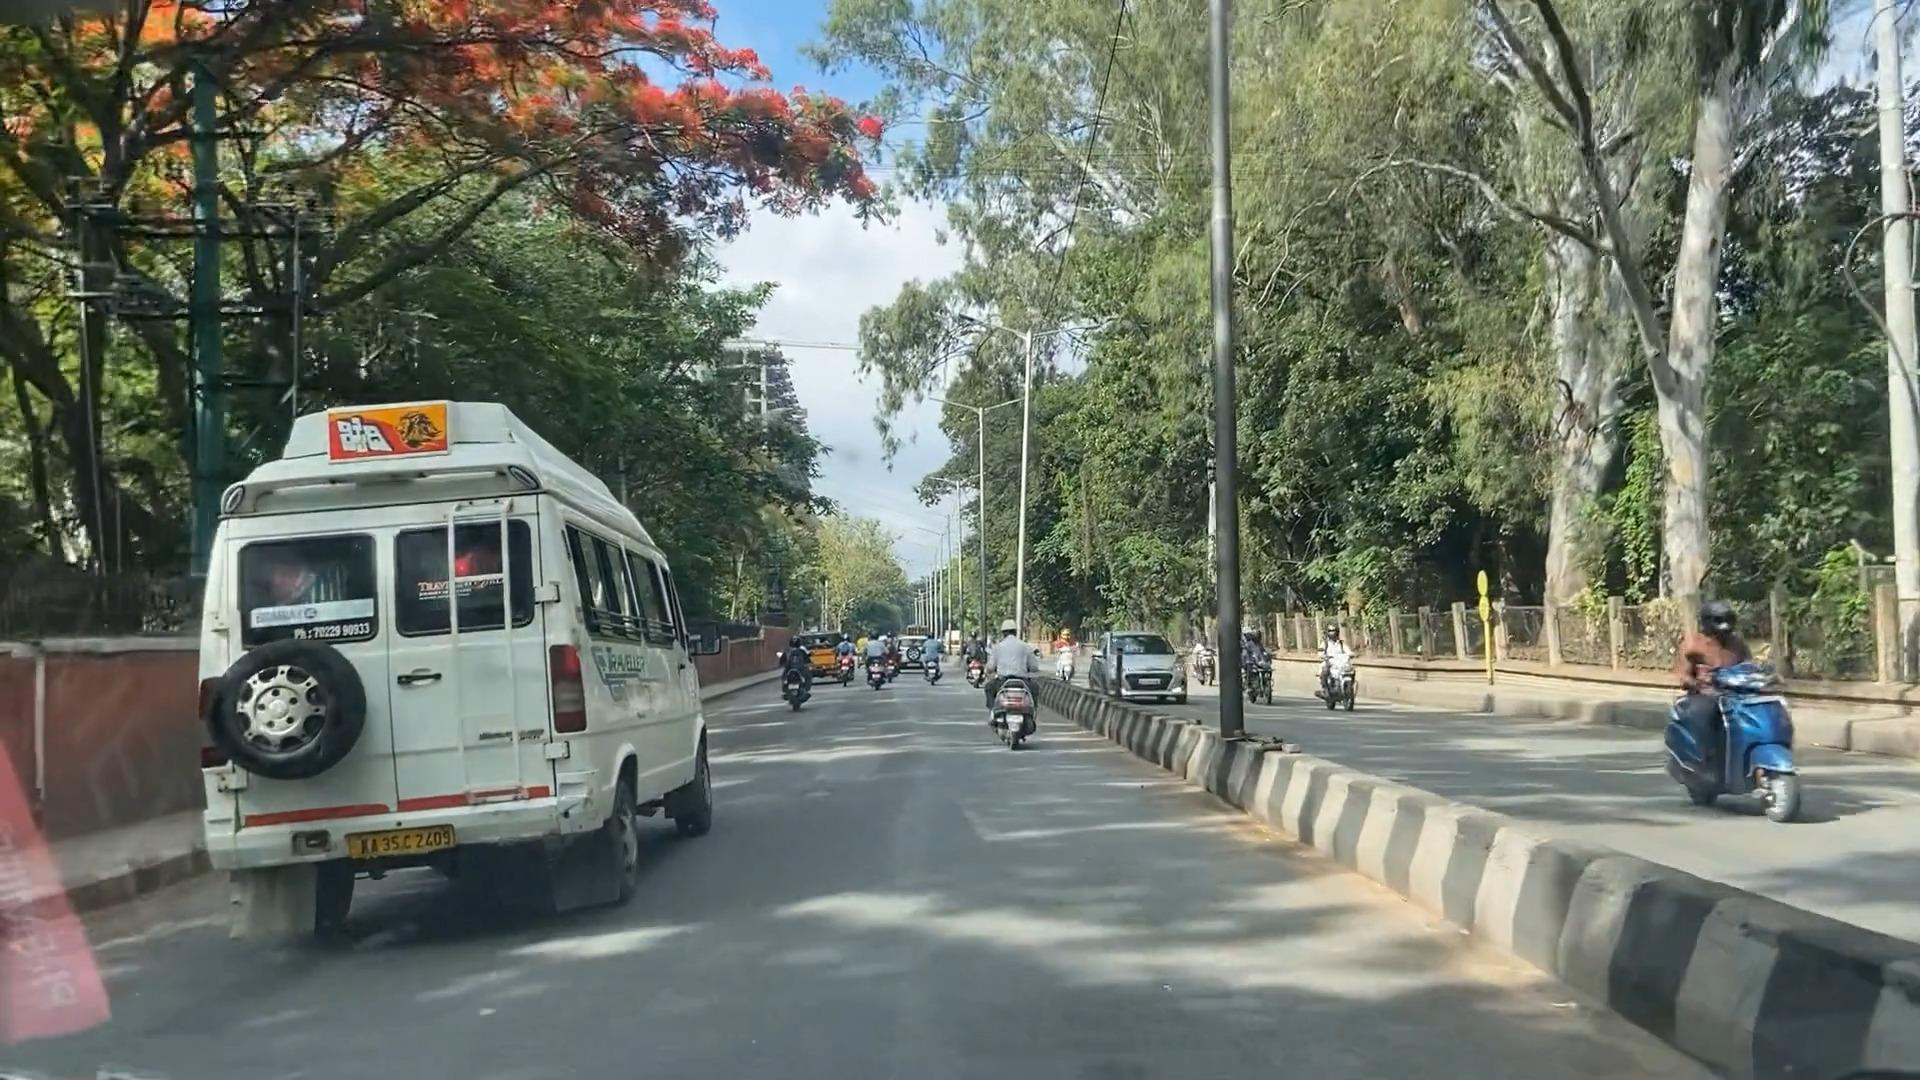HMV: (220, 473, 616, 866)
LMV: (982, 615, 1038, 742), (771, 630, 818, 709), (872, 640, 895, 692)
